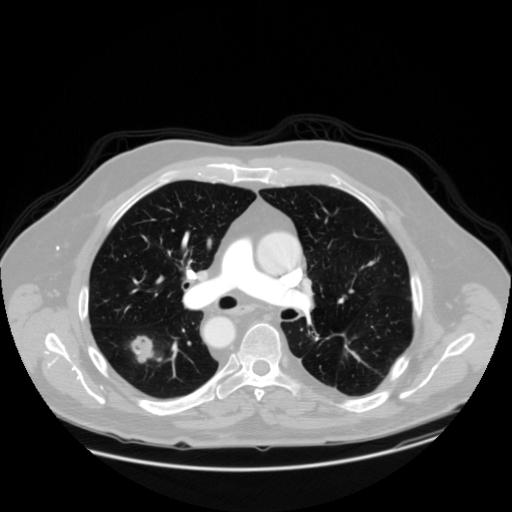nodule: (129, 333, 161, 365)
